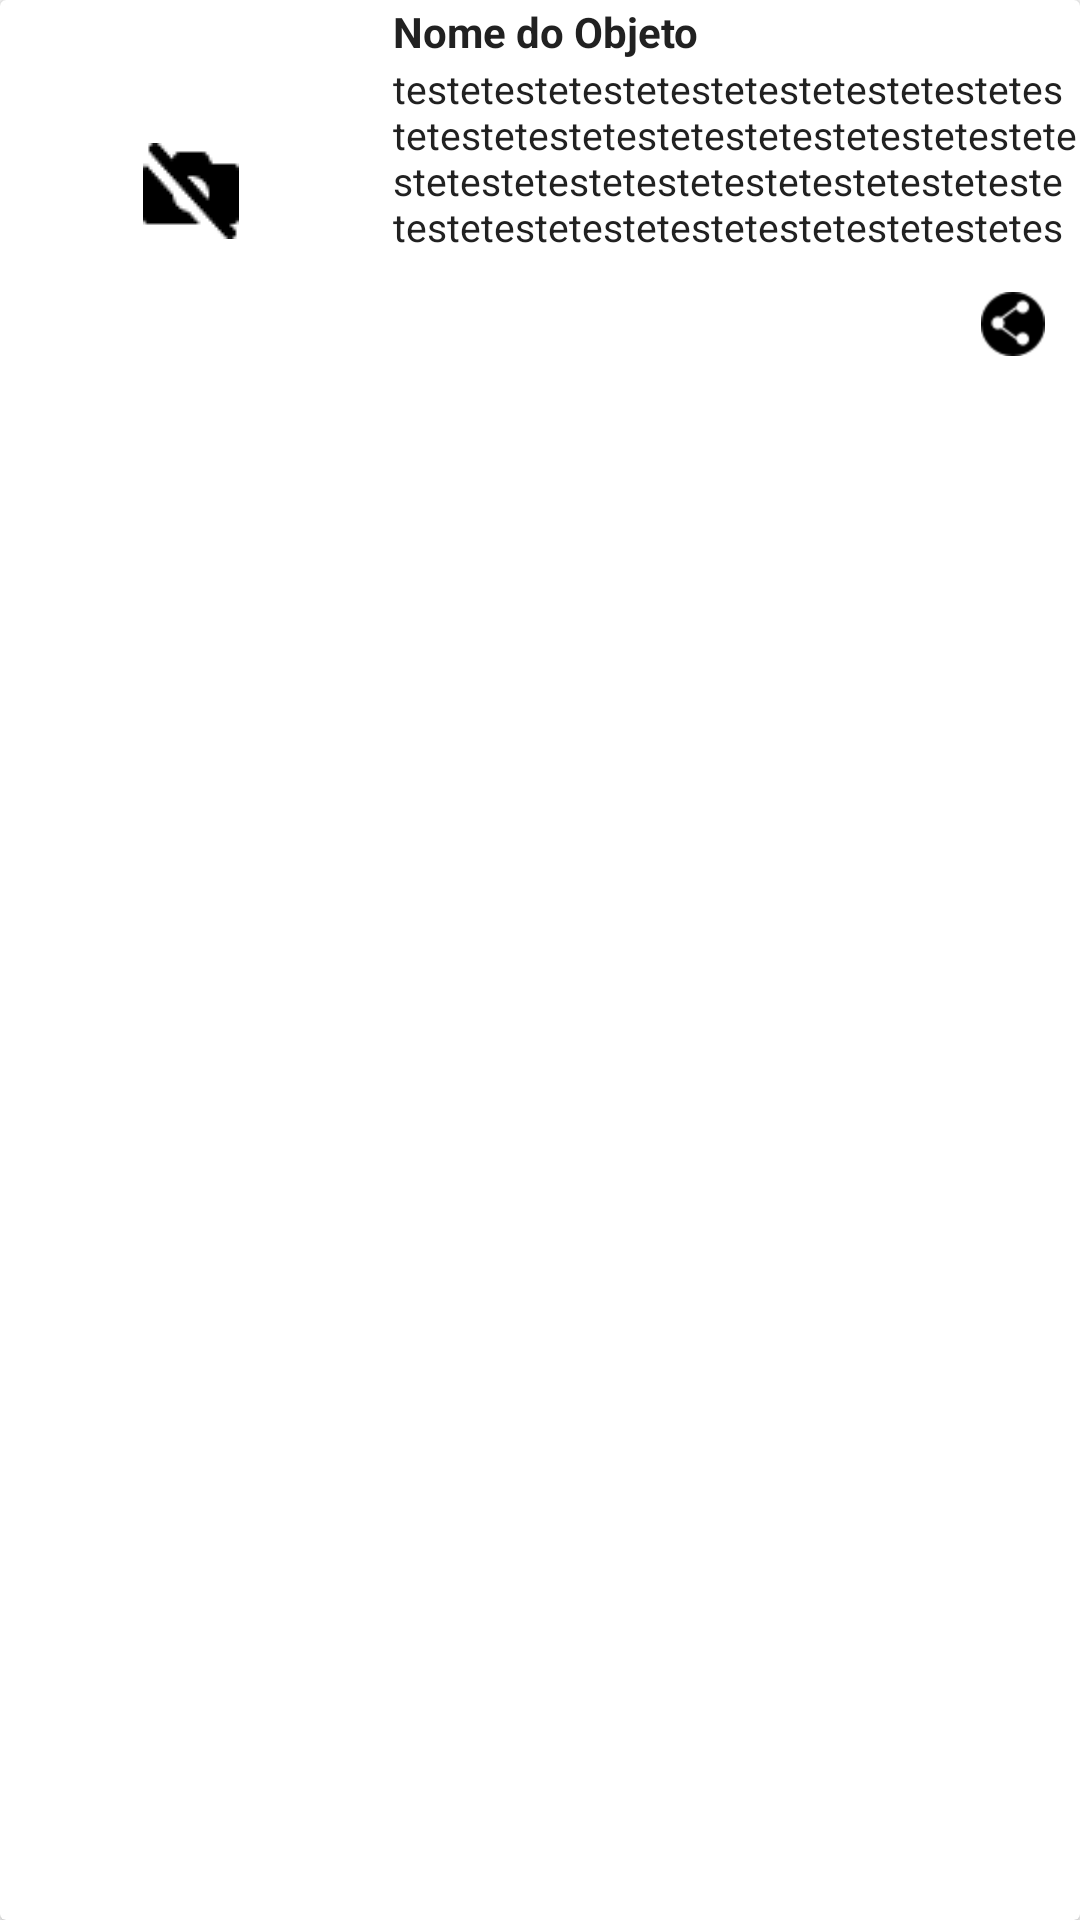

Locate icon controls on the screen. Image size 1080 x 1920, boxes as region(x1, y1, x2, y2).
no photo: region(143, 143, 239, 239)
share: region(981, 292, 1045, 356)
